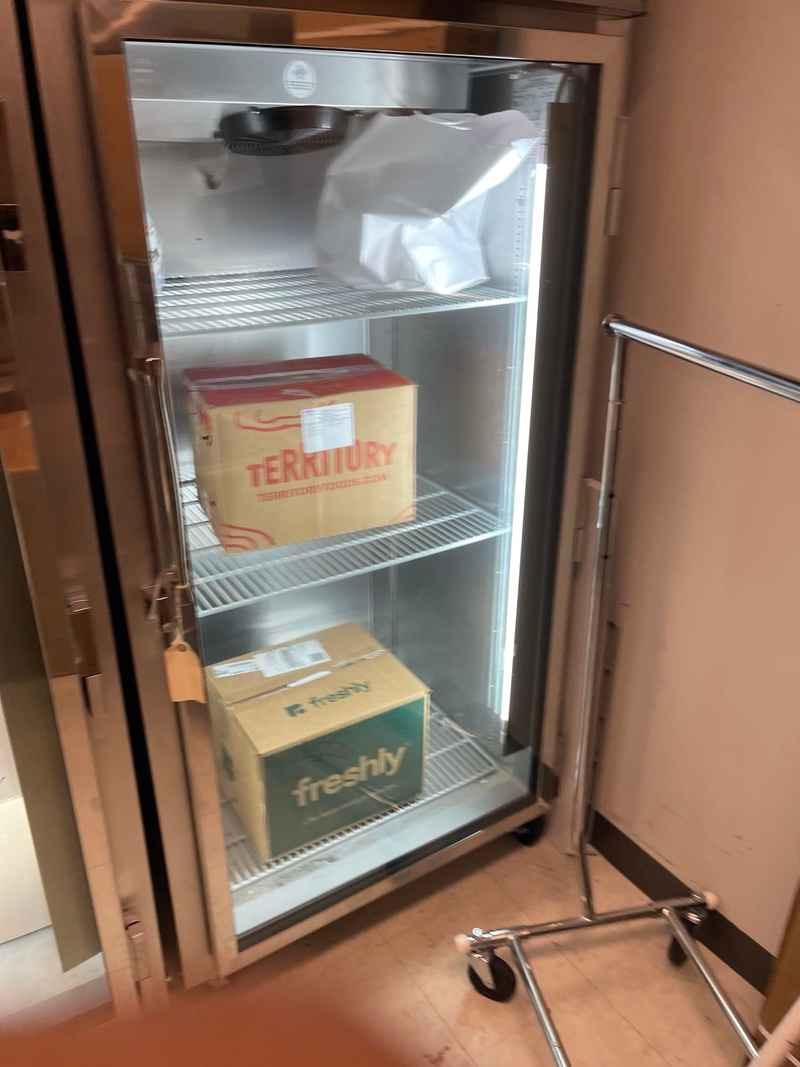package: (179, 352, 419, 555)
